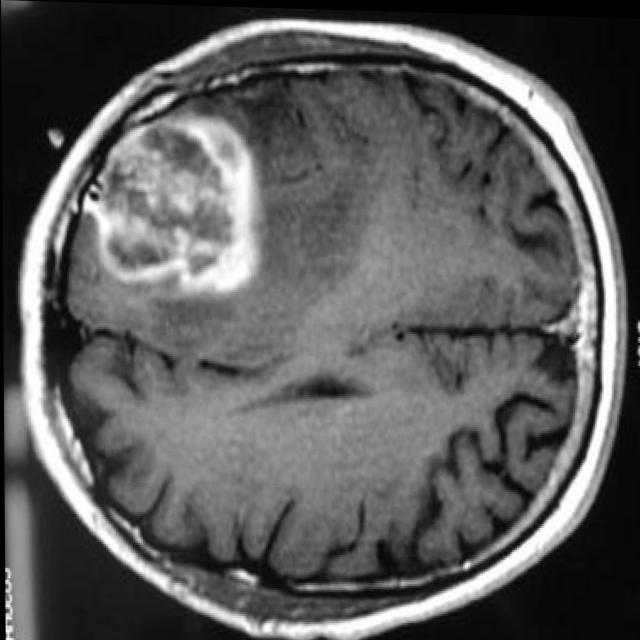Tumor: (84, 109, 252, 294)
